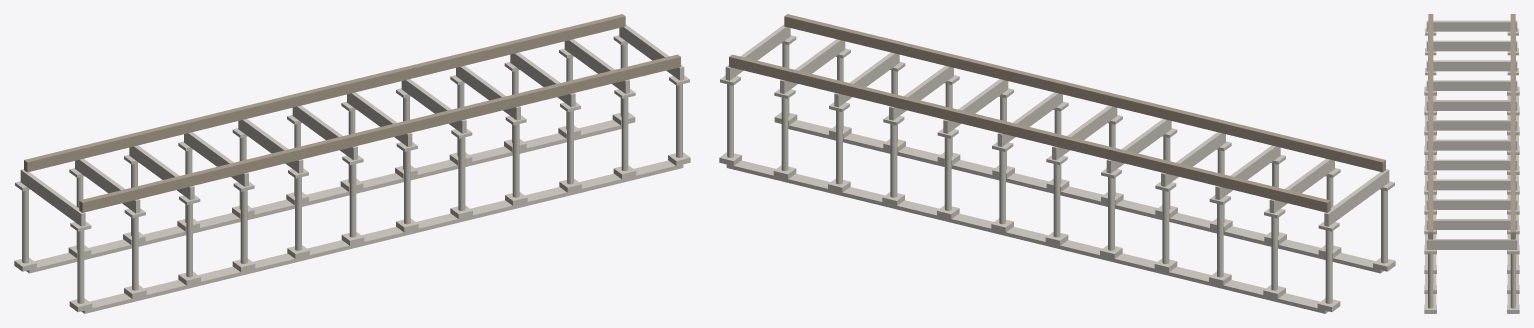
The model's file is cp_pergola.glb.
3 renders of one model, left to right at view 1: azimuth 30°, elevation 25°; view 2: azimuth 150°, elevation 25°; view 3: azimuth 270°, elevation 25°, orthographic. The views are drawn at different scales.
Parts seen in each view (by area): view 1: WisteriaPergola; view 2: WisteriaPergola; view 3: WisteriaPergola.
Part boxes in pixels (x1=…): WisteriaPergola: x1=14, y1=14, x2=690, y2=313; WisteriaPergola: x1=719, y1=14, x2=1395, y2=313; WisteriaPergola: x1=1424, y1=14, x2=1519, y2=313.
Size of the model in its own units: 25.6 by 4.37 by 4.6.
